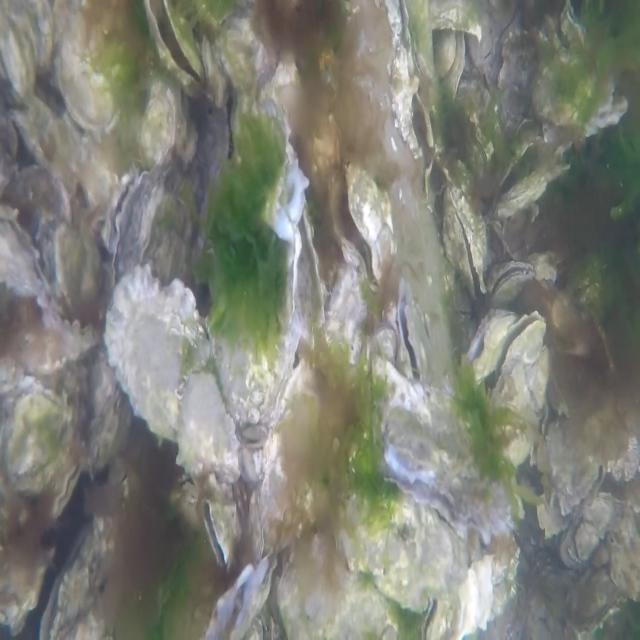Oyster-Closed: (57, 0, 125, 130), (494, 161, 572, 220), (48, 452, 89, 526), (48, 306, 102, 356), (406, 0, 436, 83), (372, 321, 397, 364)
Oyster-Indeterminate: (105, 267, 241, 479), (344, 500, 470, 615), (259, 358, 320, 524), (0, 381, 82, 494), (15, 98, 84, 200), (48, 216, 104, 308), (326, 264, 366, 369), (138, 86, 181, 173)
Oyster-Open: (221, 6, 311, 242), (383, 401, 518, 545), (38, 516, 119, 640), (328, 154, 391, 293), (384, 0, 435, 160), (204, 545, 277, 640), (540, 408, 606, 512), (484, 306, 546, 412), (142, 0, 208, 96), (0, 205, 56, 316), (442, 186, 490, 296), (0, 0, 51, 102), (293, 213, 328, 353), (106, 162, 152, 266), (465, 308, 519, 379), (395, 279, 428, 384), (200, 498, 237, 567), (492, 260, 534, 302)
